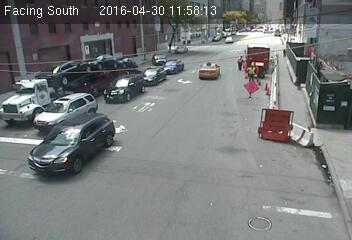neg: (298, 87, 316, 110), (75, 42, 92, 65), (148, 49, 161, 66), (117, 49, 130, 66)
pos: (245, 61, 262, 85), (235, 51, 249, 71)
